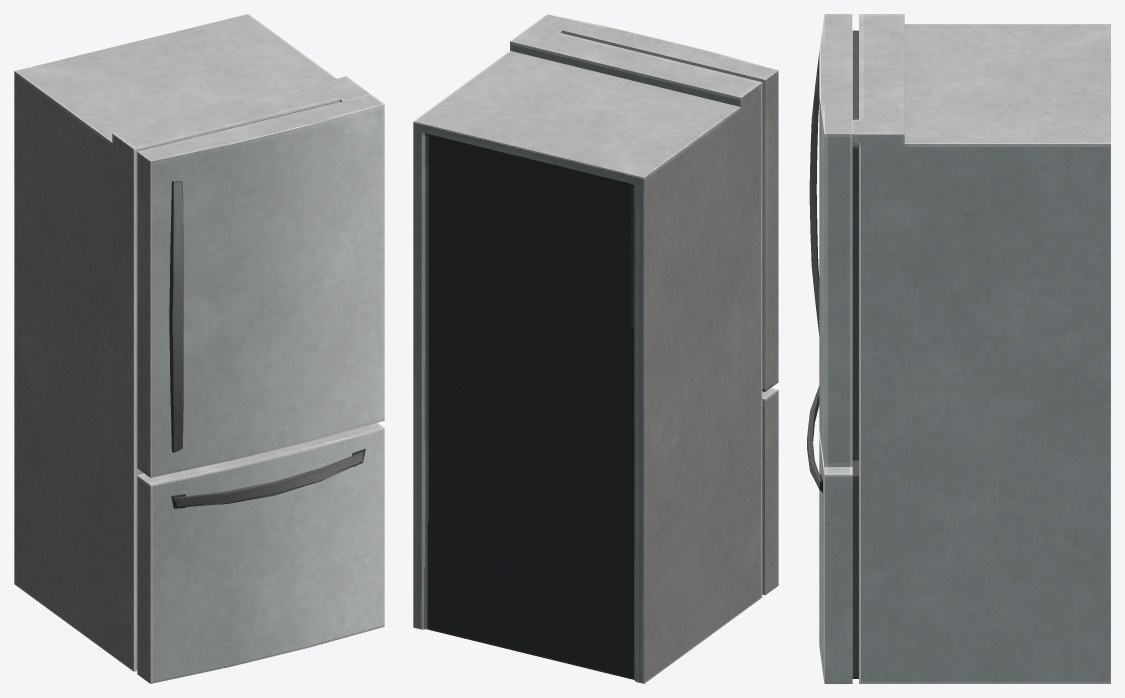
Rendered from refrigerator.glb.
The picture shows the model from 3 angles, left to right: view 1: azimuth 30°, elevation 25°; view 2: azimuth 150°, elevation 25°; view 3: azimuth 270°, elevation 25°; orthographic projection. The views are drawn at different scales.
Parts seen in each view (by area): view 1: Refrigerator_Refrigerator_0; view 2: Refrigerator_Refrigerator_0; view 3: Refrigerator_Refrigerator_0.
Boxes of the visible parts, left/top/right/bottom form: Refrigerator_Refrigerator_0: left=14, top=14, right=384, bottom=683; Refrigerator_Refrigerator_0: left=413, top=14, right=778, bottom=683; Refrigerator_Refrigerator_0: left=807, top=14, right=1110, bottom=683.
Bounding box in the file's own units: 0.8532 × 1.82 × 0.9116.
2 materials, 2 textured.
